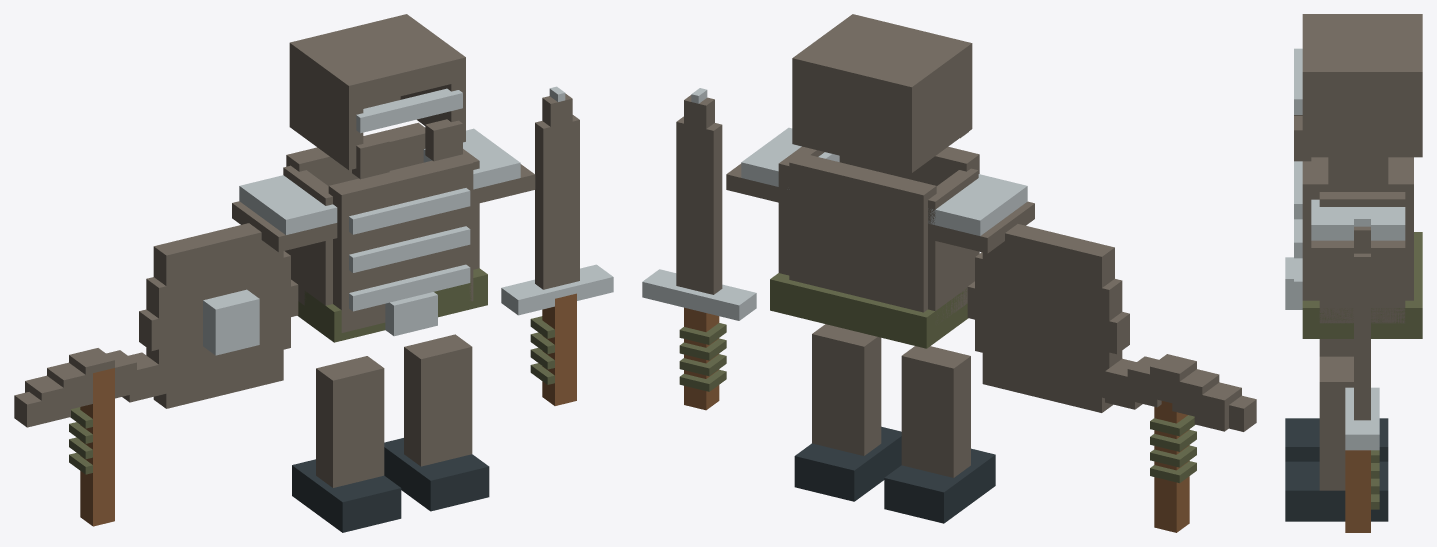
The model's file is gear_baseline_t3.glb.
3 renders of one model, left to right at view 1: azimuth 30°, elevation 25°; view 2: azimuth 150°, elevation 25°; view 3: azimuth 270°, elevation 25°, orthographic.
Parts seen in each view (by area): view 1: gear_baseline_t3/armor_chest, gear_baseline_t3/shield, gear_baseline_t3/armor_helmet, gear_baseline_t3/weapon, gear_baseline_t3/armor_greave_left, gear_baseline_t3/armor_greave_right, gear_baseline_t3/utility_tool, gear_baseline_t3/armor_shoulder_left, gear_baseline_t3/armor_belt, gear_baseline_t3/armor_shoulder_right; view 2: gear_baseline_t3/armor_chest, gear_baseline_t3/shield, gear_baseline_t3/armor_helmet, gear_baseline_t3/weapon, gear_baseline_t3/armor_greave_left, gear_baseline_t3/armor_greave_right, gear_baseline_t3/utility_tool, gear_baseline_t3/armor_belt, gear_baseline_t3/armor_shoulder_left, gear_baseline_t3/armor_shoulder_right; view 3: gear_baseline_t3/armor_helmet, gear_baseline_t3/armor_chest, gear_baseline_t3/weapon, gear_baseline_t3/armor_greave_right, gear_baseline_t3/armor_shoulder_right, gear_baseline_t3/armor_belt, gear_baseline_t3/armor_greave_left, gear_baseline_t3/armor_shoulder_left.
Part boxes in pixels (x1,y1,x2,y2): gear_baseline_t3/armor_chest: (283, 122, 479, 332); gear_baseline_t3/shield: (139, 223, 298, 408); gear_baseline_t3/armor_helmet: (289, 14, 465, 179); gear_baseline_t3/weapon: (501, 86, 613, 405); gear_baseline_t3/armor_greave_left: (292, 356, 401, 532); gear_baseline_t3/armor_greave_right: (384, 334, 489, 511); gear_baseline_t3/utility_tool: (14, 348, 180, 526); gear_baseline_t3/armor_shoulder_left: (232, 175, 337, 252); gear_baseline_t3/armor_belt: (297, 268, 487, 342); gear_baseline_t3/armor_shoulder_right: (423, 128, 535, 204); gear_baseline_t3/armor_chest: (778, 146, 979, 322); gear_baseline_t3/shield: (967, 224, 1129, 412); gear_baseline_t3/armor_helmet: (792, 14, 972, 173); gear_baseline_t3/weapon: (642, 88, 756, 410); gear_baseline_t3/armor_greave_left: (884, 346, 995, 523); gear_baseline_t3/armor_greave_right: (794, 324, 901, 501); gear_baseline_t3/utility_tool: (1087, 354, 1256, 532); gear_baseline_t3/armor_belt: (770, 273, 968, 348); gear_baseline_t3/armor_shoulder_left: (928, 174, 1034, 253); gear_baseline_t3/armor_shoulder_right: (726, 127, 839, 204); gear_baseline_t3/armor_helmet: (1294, 14, 1422, 161); gear_baseline_t3/armor_chest: (1294, 157, 1413, 323); gear_baseline_t3/weapon: (1345, 215, 1379, 532); gear_baseline_t3/armor_greave_right: (1285, 356, 1388, 521); gear_baseline_t3/armor_shoulder_right: (1311, 199, 1405, 263); gear_baseline_t3/armor_belt: (1285, 232, 1422, 338); gear_baseline_t3/armor_greave_left: (1285, 339, 1388, 461); gear_baseline_t3/armor_shoulder_left: (1328, 157, 1388, 168).
Bounding box in the file's own units: 2.5 × 1.78 × 0.5.
